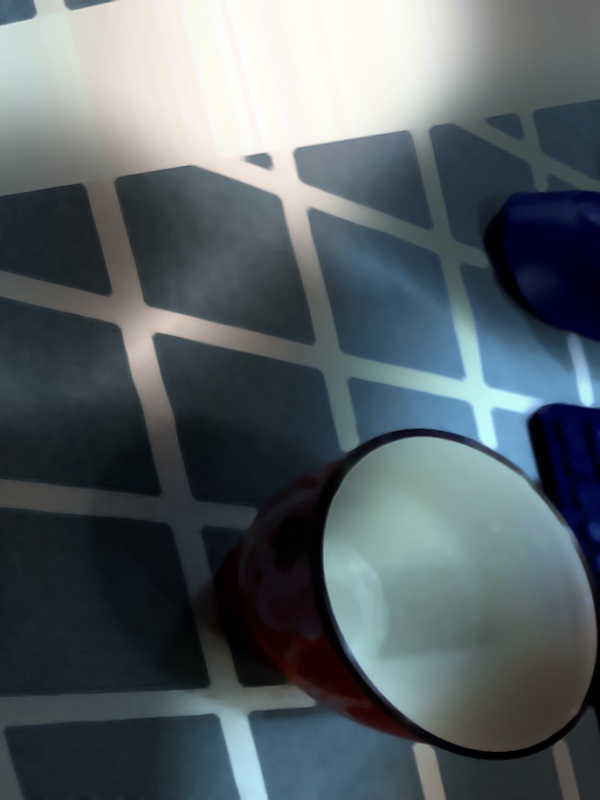bowl_small: (163, 405, 599, 765)
